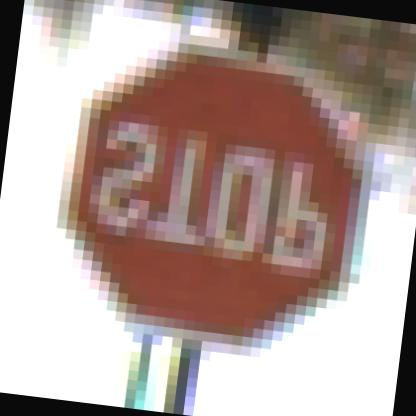stop: (29, 31, 398, 364)
